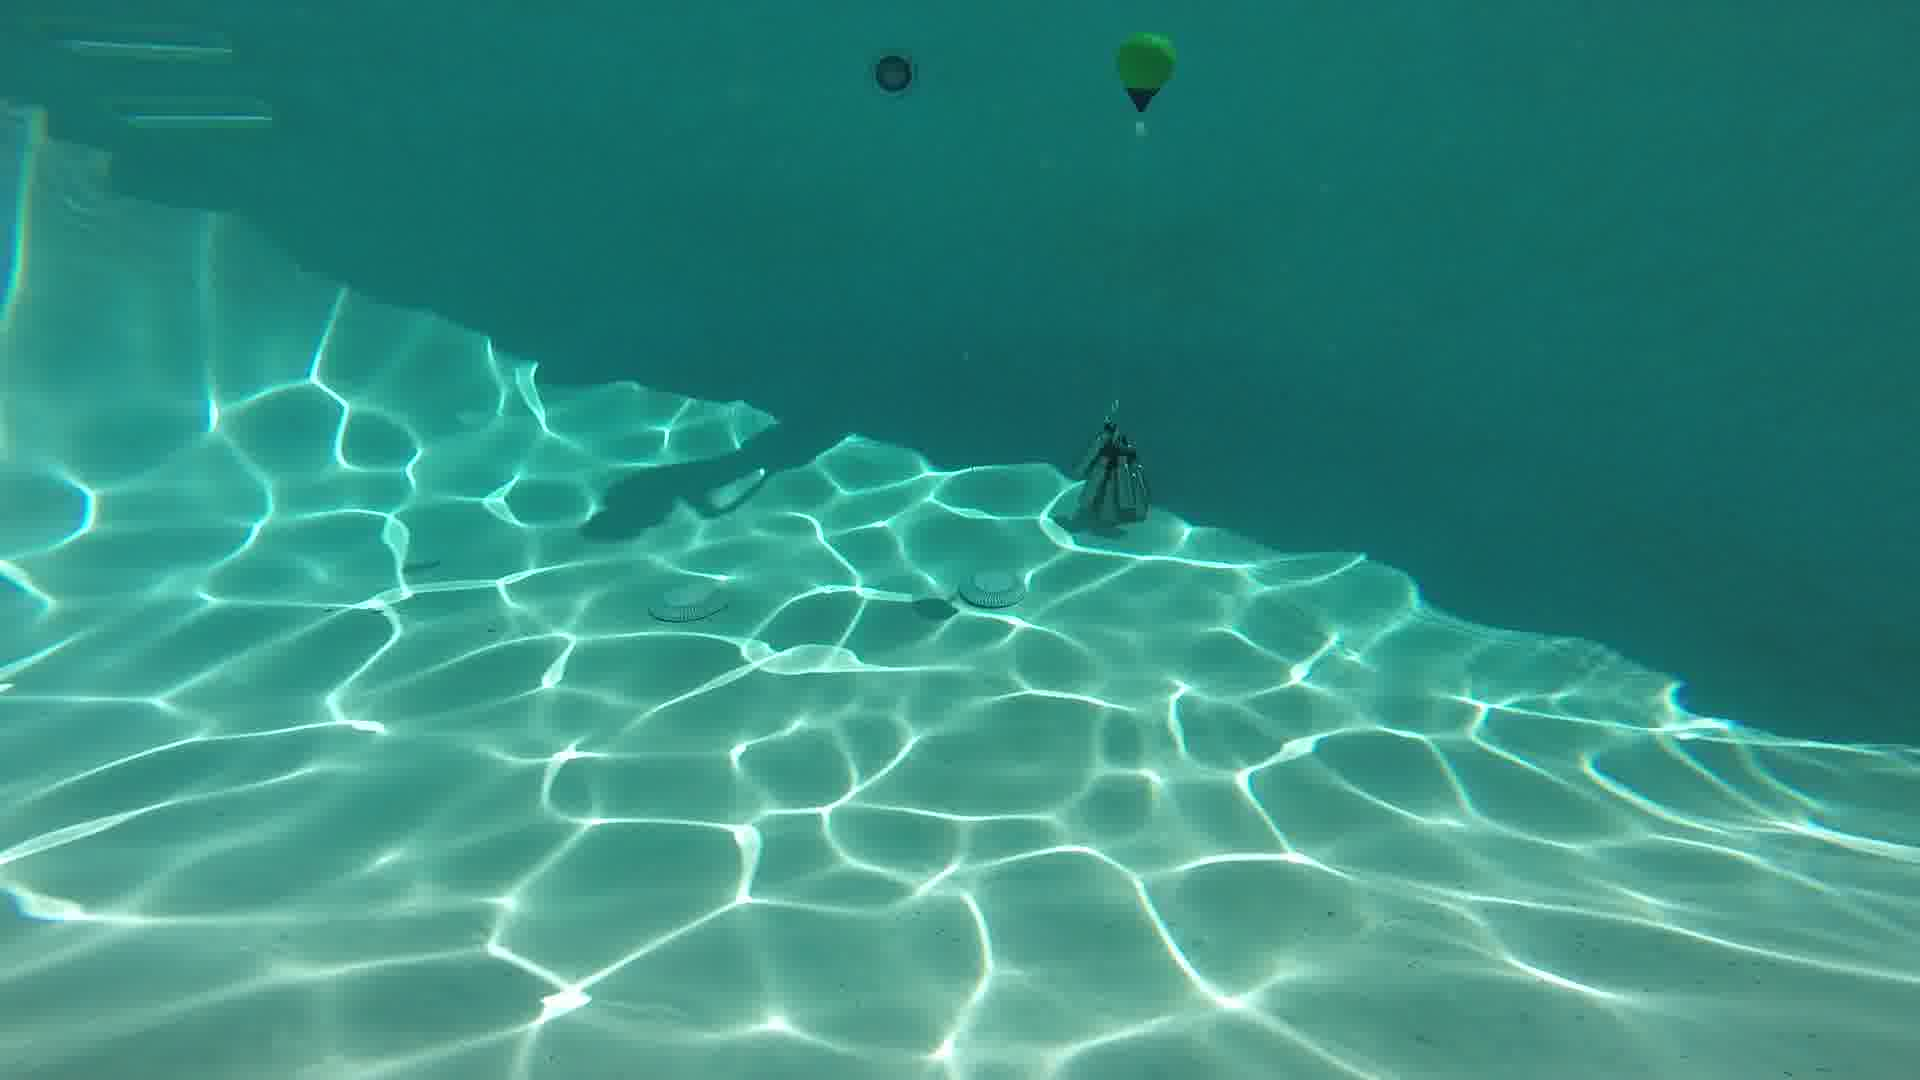yellow_buoy: (1117, 32, 1176, 111)
